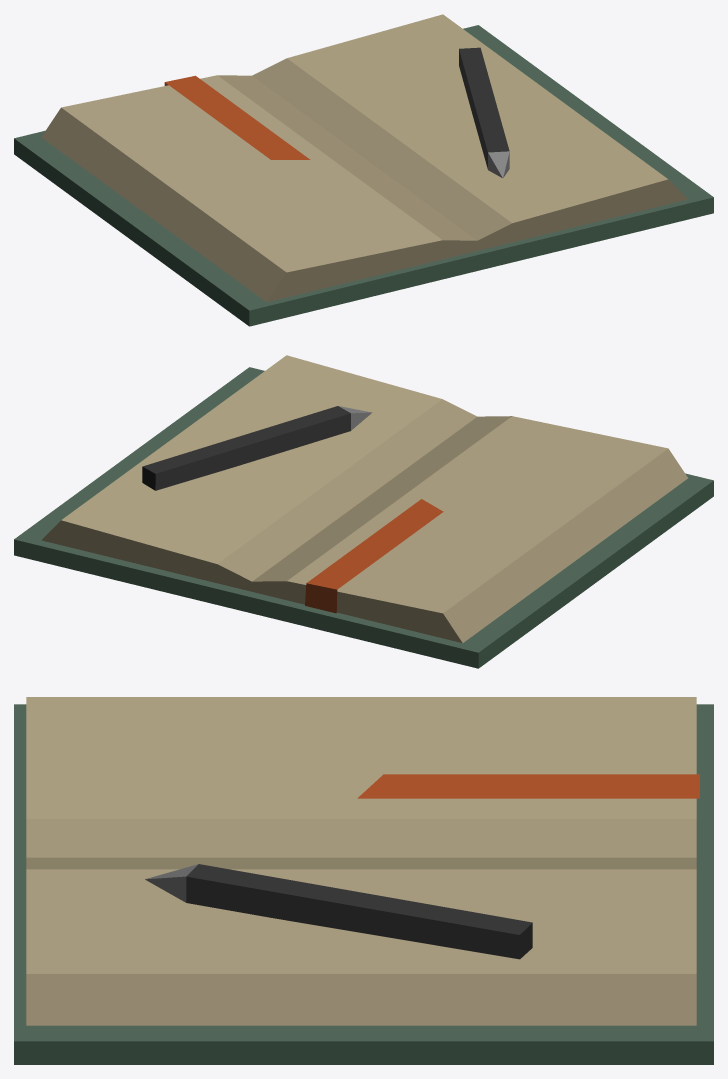
Rendered from CR_Lab2_Notebook.fbx.
3 views of the same model, one above another, from view 1: azimuth 30°, elevation 25°; view 2: azimuth 150°, elevation 25°; view 3: azimuth 270°, elevation 25° (orthographic). The views are drawn at different scales.
Visible parts, largest first — view 1: CR_Lab2_Notebook; view 2: CR_Lab2_Notebook; view 3: CR_Lab2_Notebook.
Part boxes in pixels (<box>): CR_Lab2_Notebook: <box>14,14,713,326</box>; CR_Lab2_Notebook: <box>14,355,713,668</box>; CR_Lab2_Notebook: <box>14,697,713,1064</box>.
Size of the model in its own units: 0.3637 by 0.0423 by 0.3193.
